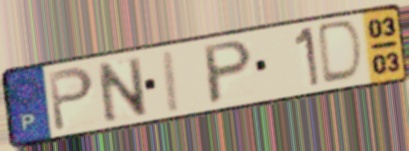1: (292, 24, 321, 90)
D: (317, 17, 367, 87)
I: (159, 47, 184, 116)
N: (94, 54, 151, 126)
P: (202, 38, 255, 108), (45, 64, 96, 135)
